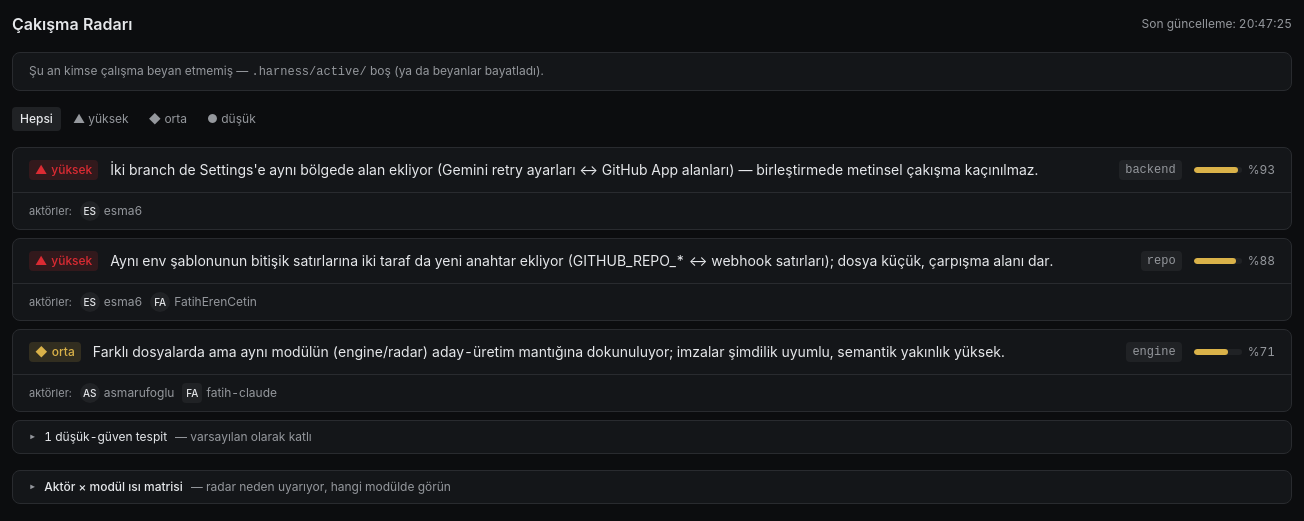
RadarPage › dolu: tespitler listelenir + severity filtresi çalışır
Check: the text "yüksek" is shown 2 times, box [29,160,98,180]; [29,251,98,271]
Check: the text "orta" is shown once, box [29,342,81,362]
Click the button "▲ yüksek".
click(101, 119)  # box [65,107,137,131]
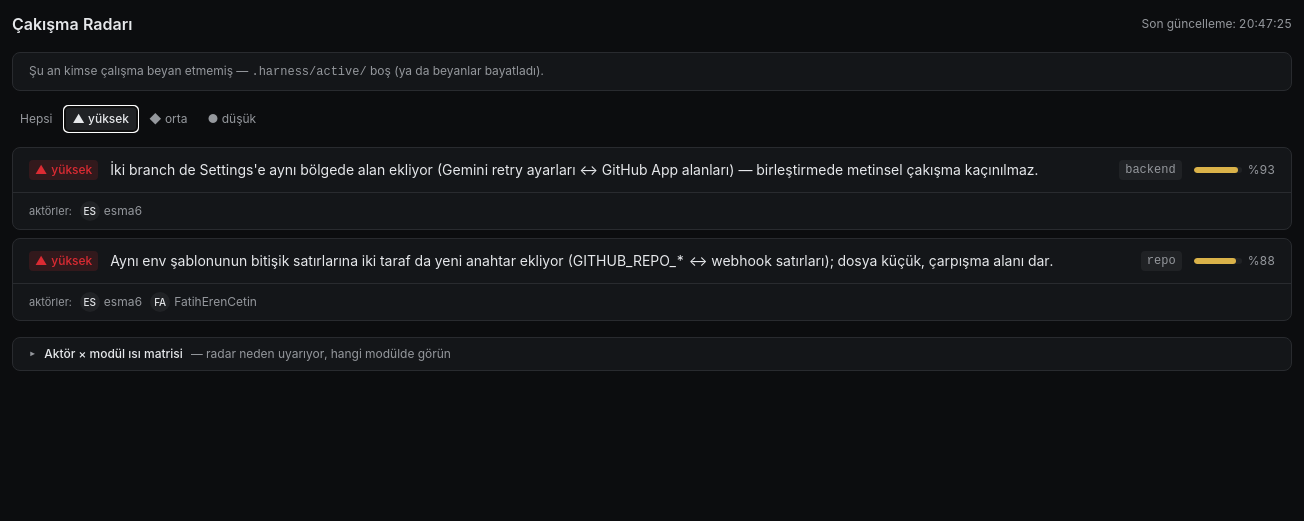
Check: the text "yüksek" is shown 2 times, box [29,160,98,180]; [29,251,98,271]
Click the button "● düşük".
click(232, 119)  # box [200,107,264,131]
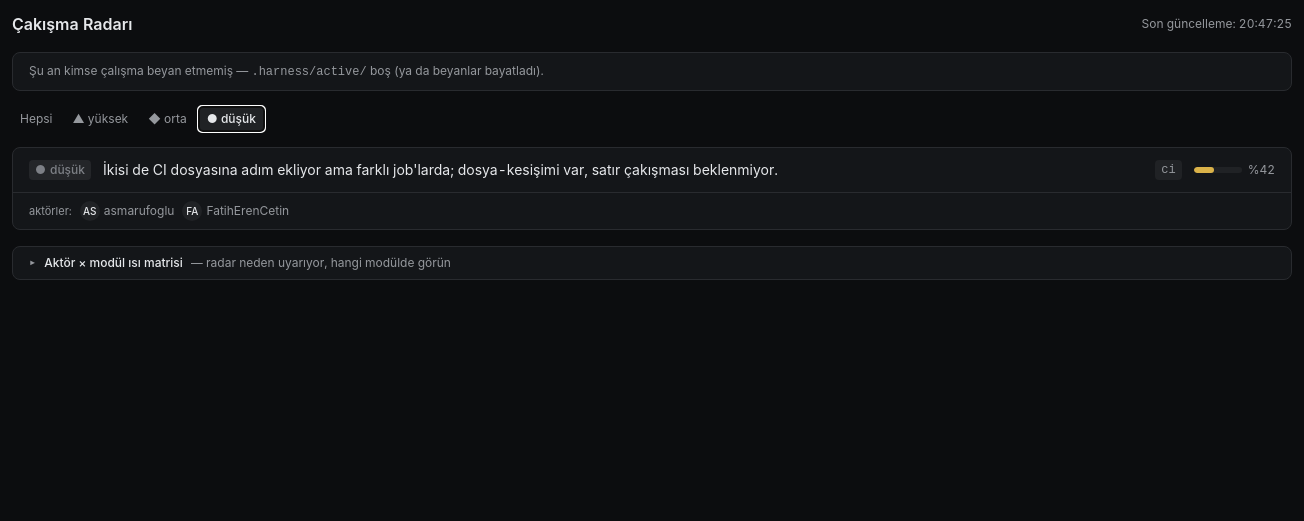
Check: the text "düşük" is shown once, box [29,160,91,180]
